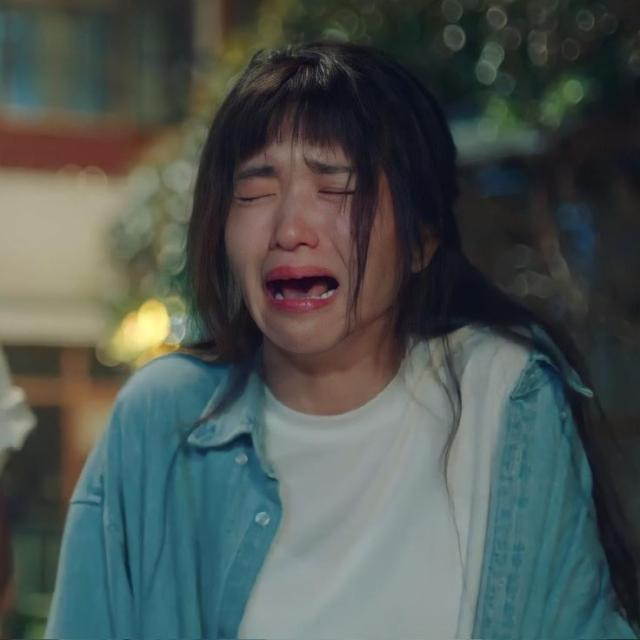sem_oculos: (229, 154, 408, 230)
